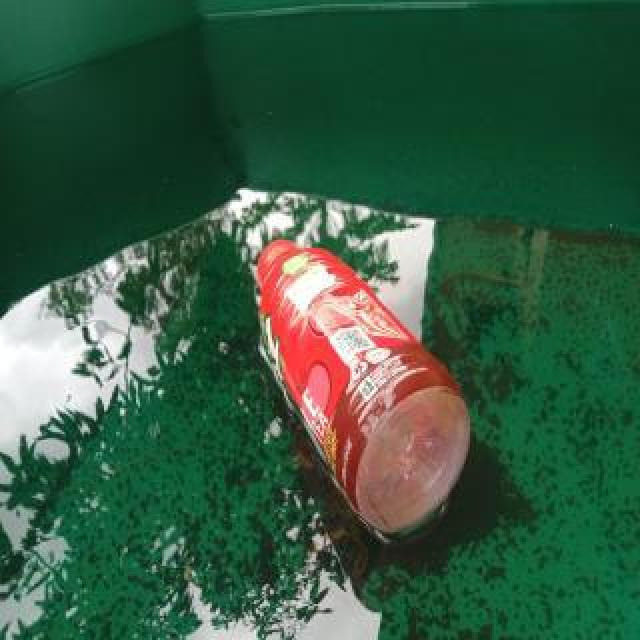bottle: (250, 232, 476, 536)
